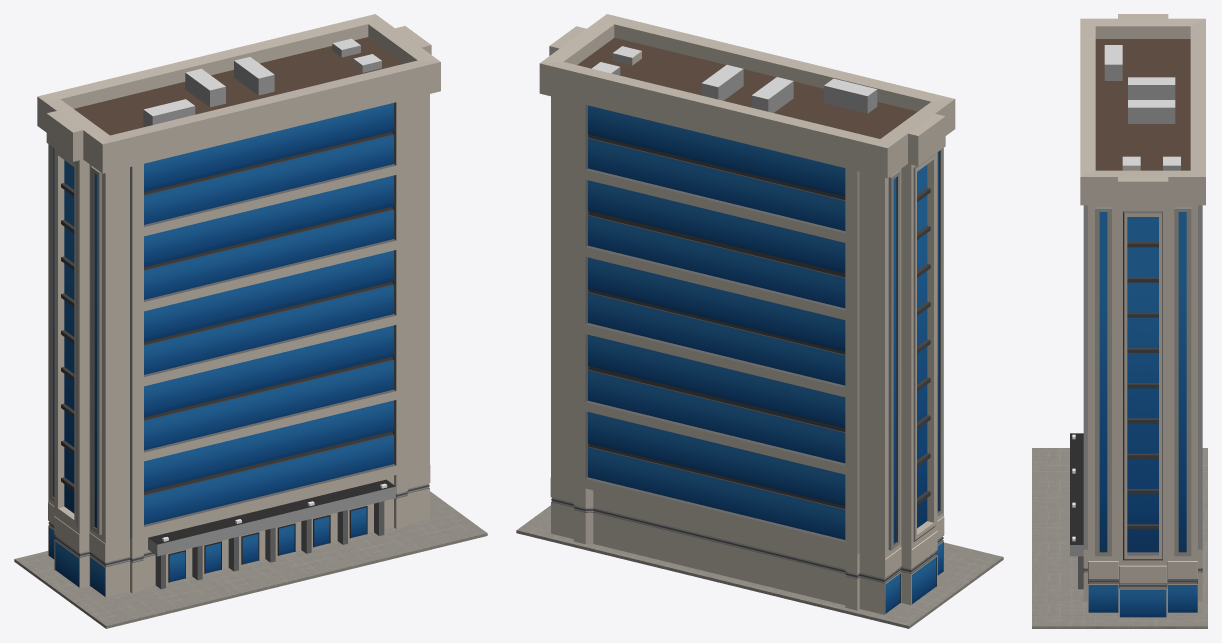
Rendered from Skyscraper_02.fbx.
3 renders of one model, left to right at view 1: azimuth 30°, elevation 25°; view 2: azimuth 150°, elevation 25°; view 3: azimuth 270°, elevation 25°, orthographic. The views are drawn at different scales.
Parts seen in each view (by area): view 1: Skyscraper_02; view 2: Skyscraper_02; view 3: Skyscraper_02.
Part boxes in pixels (x1=…): Skyscraper_02: x1=14, y1=14, x2=487, y2=628; Skyscraper_02: x1=516, y1=14, x2=1003, y2=628; Skyscraper_02: x1=1032, y1=14, x2=1207, y2=628.
Size of the model in its own units: 7200 by 8377 by 3000.
